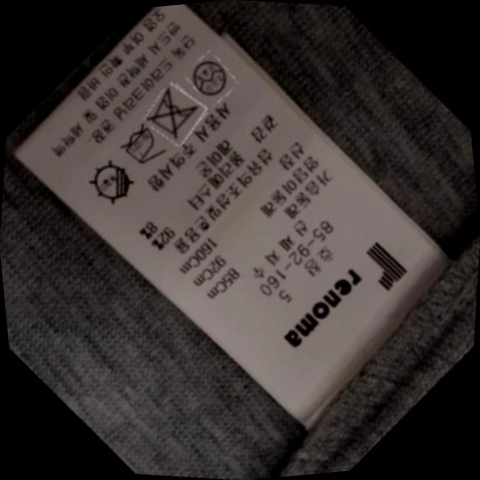DN_wash: (144, 85, 207, 142)
dry_clean_petrol_only: (187, 52, 236, 101)
iron_low: (114, 122, 170, 172)
line_dry_in_shade: (85, 157, 145, 210)
